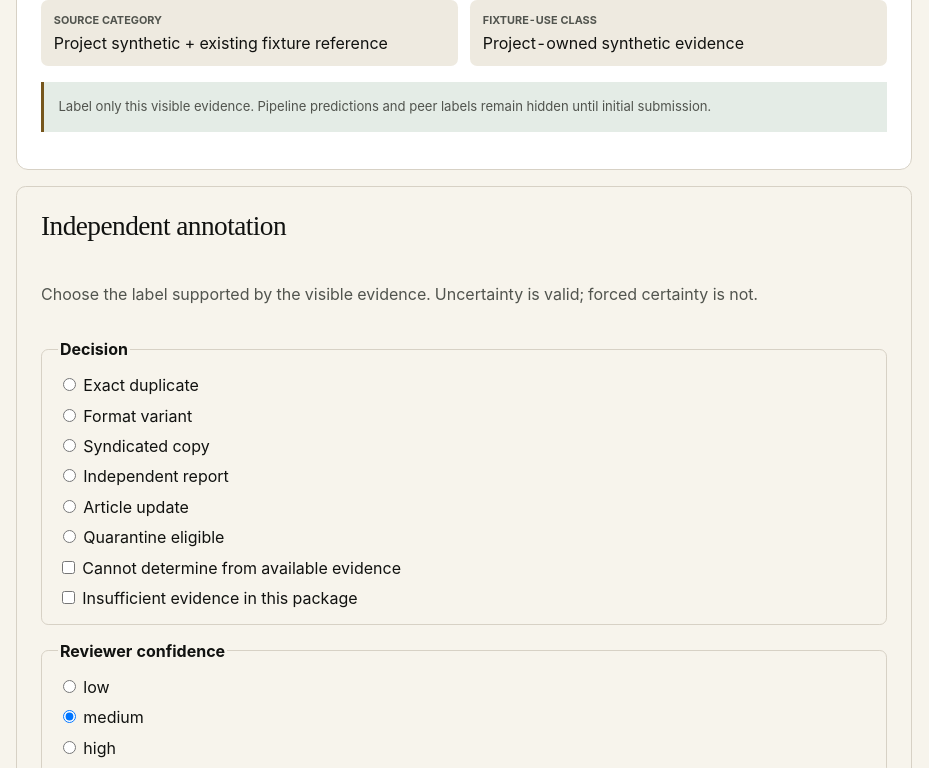
Scenario: gold corpus reviewer workflow › keeps predictions and peer decisions hidden before and after local submission
(page scrolled)
Check: the text "pipeline predictions and peer labels remain hidden" is shown, box [58, 98, 711, 114]
Check: the checkbox labelled "Insufficient evidence in this package" is shown, box [62, 591, 75, 604]
Click the radio button labelled "Exact duplicate" at (70, 385), box [63, 378, 76, 391]
(page scrolled)
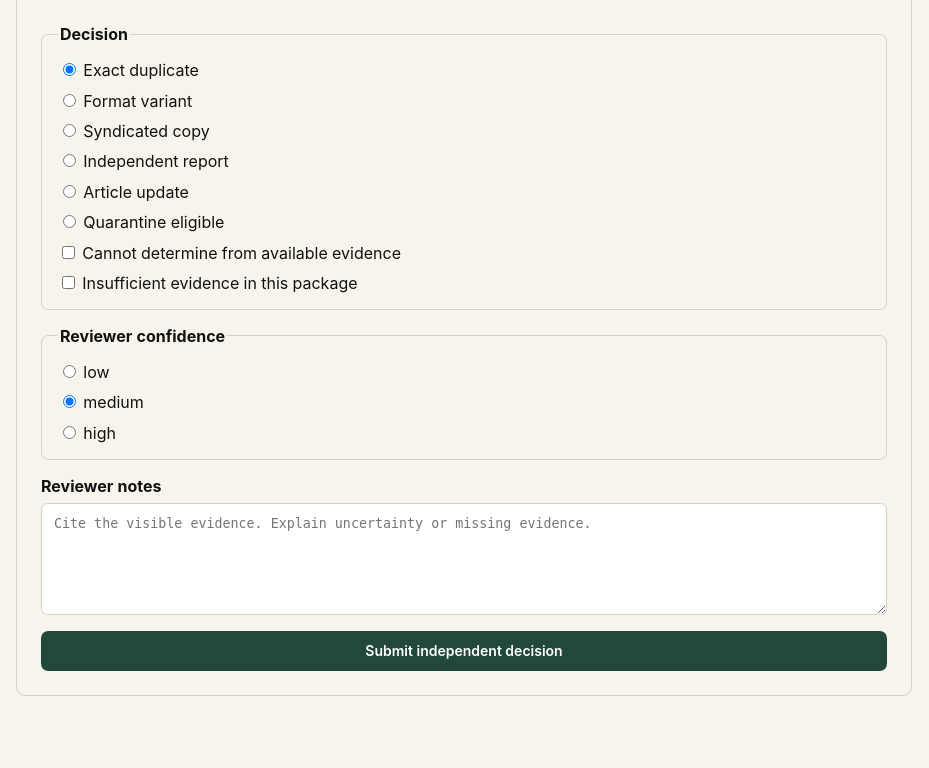
Click the button "Submit independent decision" at (464, 651), box [41, 631, 887, 671]
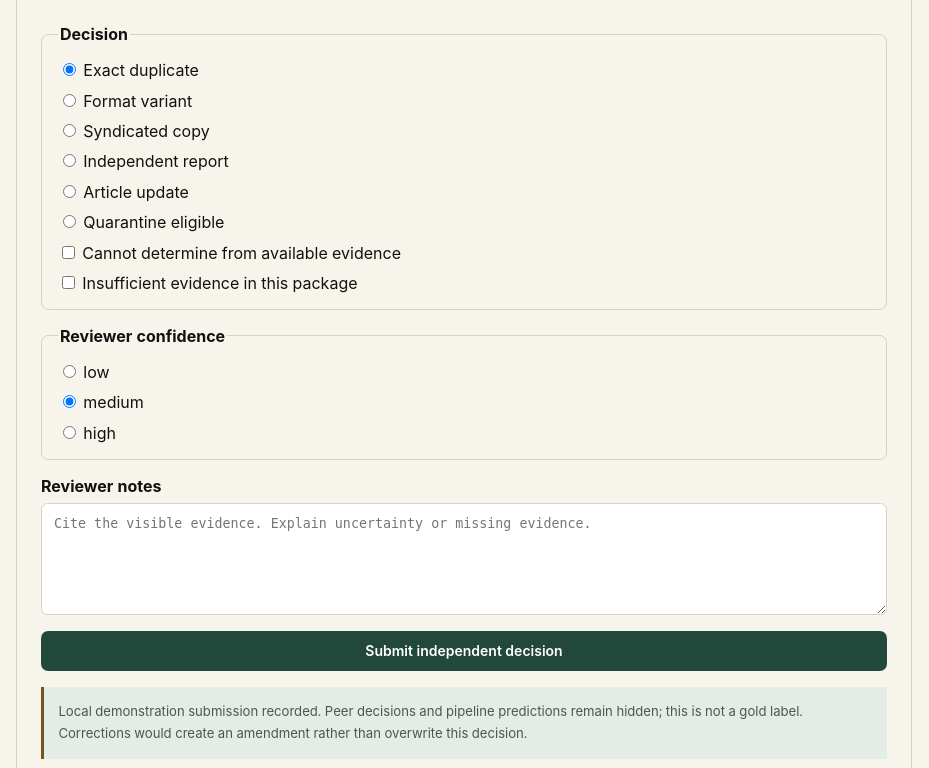
Check: the message shows "not a gold label", box [58, 703, 803, 741]
